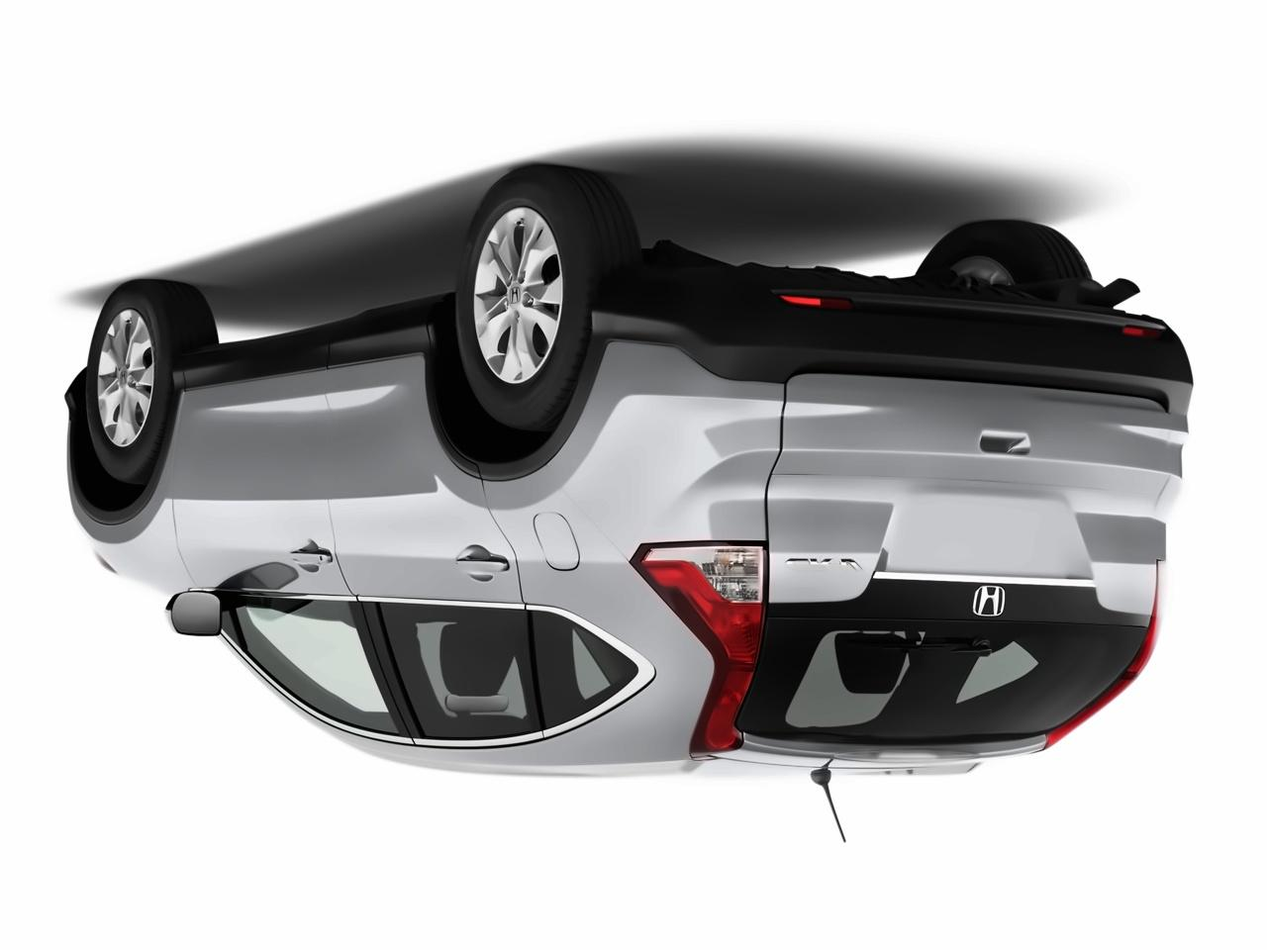Car boot: (748, 365, 1179, 627)
Driver-s door - -F-R-: (155, 325, 406, 801)
Fender - -F-R-: (50, 467, 188, 567)
Fender - -R-R-: (400, 389, 627, 519)
Passenger-s door - -R-R-: (292, 312, 548, 796)
Rear bumper: (587, 246, 1213, 422)
Rear light - -L-: (1053, 564, 1179, 784)
Rear light - -R-: (629, 535, 776, 790)
Side bumper - -R-: (160, 286, 474, 467)
Side mirror - -R-: (164, 576, 226, 649)
